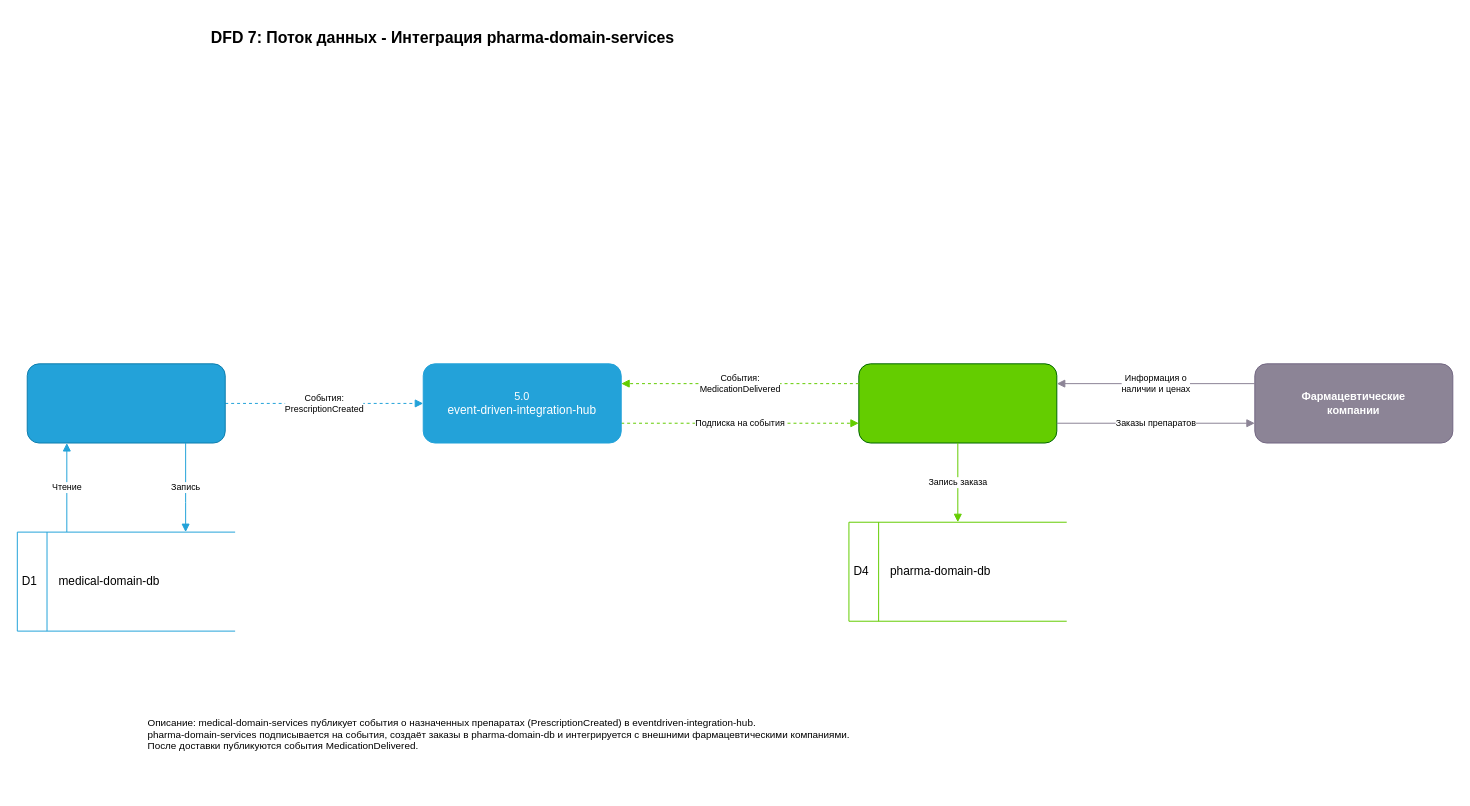
The diagram is 1470 pixels wide and 806 high, and some of its shapes have lost their labels. The centre of each missing label's shape, as x and y in pixels:
2.0 medical-domain-services: point (125, 403)
9.0 pharma-domain-services: point (957, 403)
